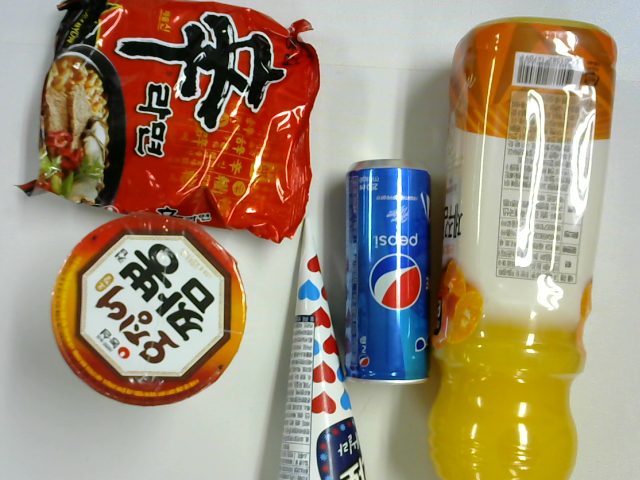Bravo_Cone_(Banila)_CVS: (278, 221, 368, 480)
Jeju_Tangerine_1.5L: (425, 17, 620, 479)
Ojjam: (47, 213, 243, 405)
Pepsi_Cola_Can_250ml: (347, 158, 433, 386)
Sinramen: (15, 1, 315, 241)
